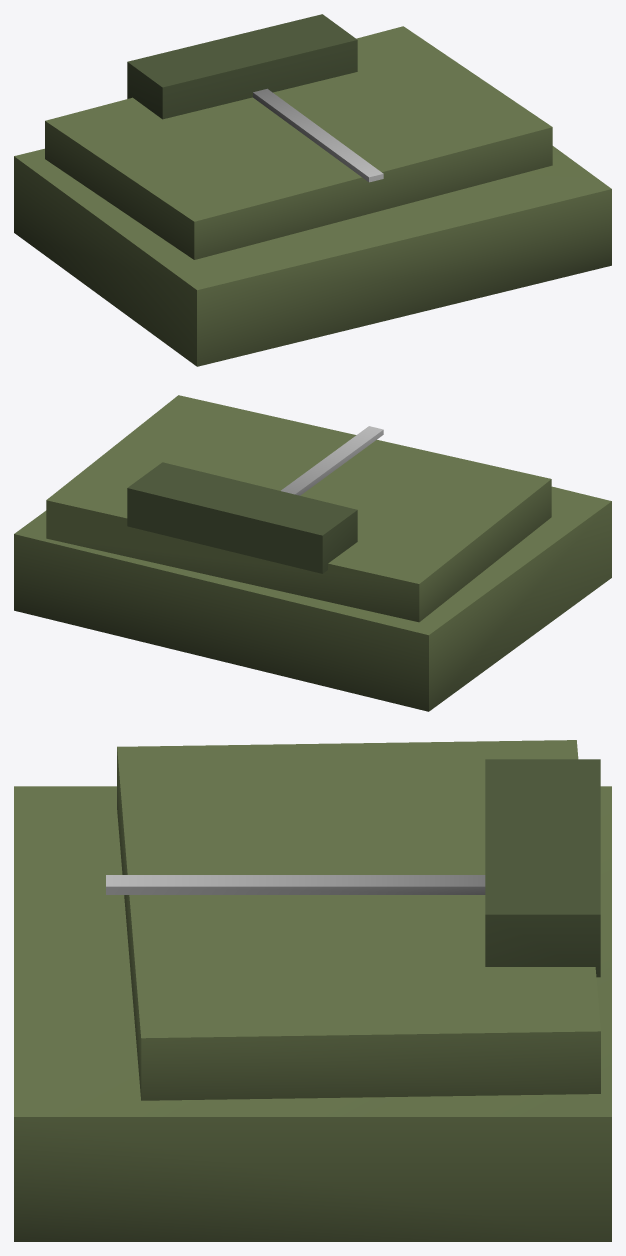
File: chaqueta_campo.glb
3 views of the same model, one above another, from view 1: azimuth 30°, elevation 25°; view 2: azimuth 150°, elevation 25°; view 3: azimuth 270°, elevation 25° (orthographic). The views are drawn at different scales.
Parts seen in each view (by area): view 1: chaqueta_campo; view 2: chaqueta_campo; view 3: chaqueta_campo.
Part boxes in pixels (x1,y1,x2,y2): chaqueta_campo: [14, 14, 611, 366]; chaqueta_campo: [14, 395, 611, 711]; chaqueta_campo: [14, 740, 611, 1241].
Size of the model in its own units: 0.34 by 0.115 by 0.26.
